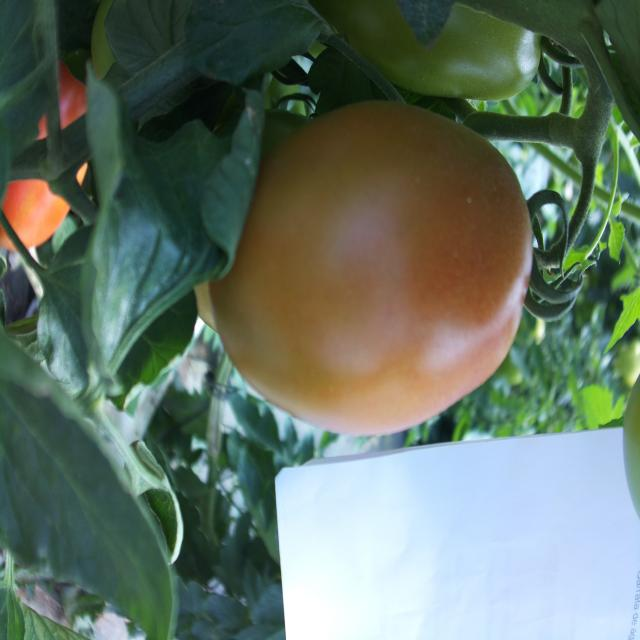sari: (207, 80, 549, 434)
